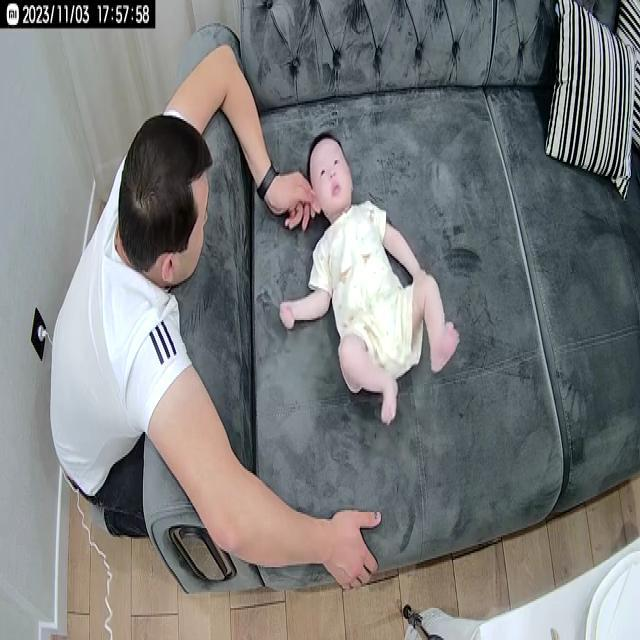baby: (276, 128, 459, 430)
